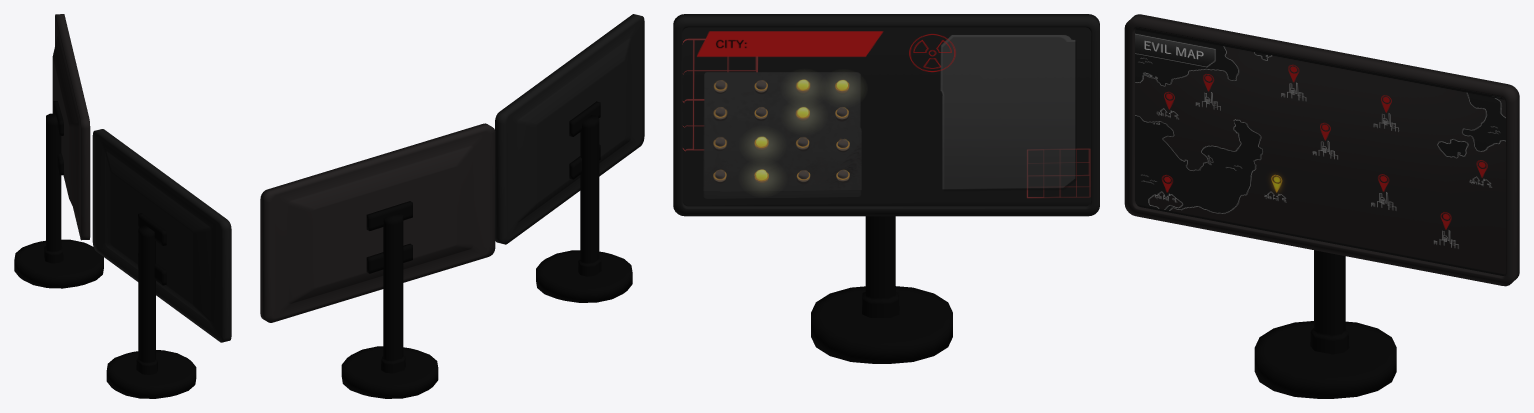
Rendered from newscreens.fbx.
The picture shows the model from 3 angles, left to right: view 1: azimuth 30°, elevation 25°; view 2: azimuth 150°, elevation 25°; view 3: azimuth 270°, elevation 25°; orthographic projection. The views are drawn at different scales.
Visible parts, largest first — view 1: Cube.005, Cube.003, Cube.129, Cube.136, Cube.128, Cube.004; view 2: Cube.136, Cube.005, Cube.129, Cube.003, Cube.004, Cube.128; view 3: Cube.005, Cube.136, Cube.129, Cube.003.
Boxes of the visible parts, <box> form: Cube.005: <box>92,129,231,342</box>; Cube.003: <box>106,225,196,398</box>; Cube.129: <box>14,113,103,288</box>; Cube.136: <box>52,14,90,240</box>; Cube.128: <box>138,213,166,285</box>; Cube.004: <box>53,101,63,175</box>; Cube.136: <box>260,123,495,322</box>; Cube.005: <box>495,14,644,244</box>; Cube.129: <box>341,213,438,398</box>; Cube.003: <box>536,115,632,302</box>; Cube.004: <box>366,201,412,273</box>; Cube.128: <box>569,101,600,179</box>; Cube.005: <box>673,14,1099,216</box>; Cube.136: <box>1124,14,1519,286</box>; Cube.129: <box>1254,250,1396,398</box>; Cube.003: <box>811,216,952,363</box>.
Bounding box in the file's own units: 48.97 × 65.13 × 153.
Materials: 3 (2 with a texture image).
